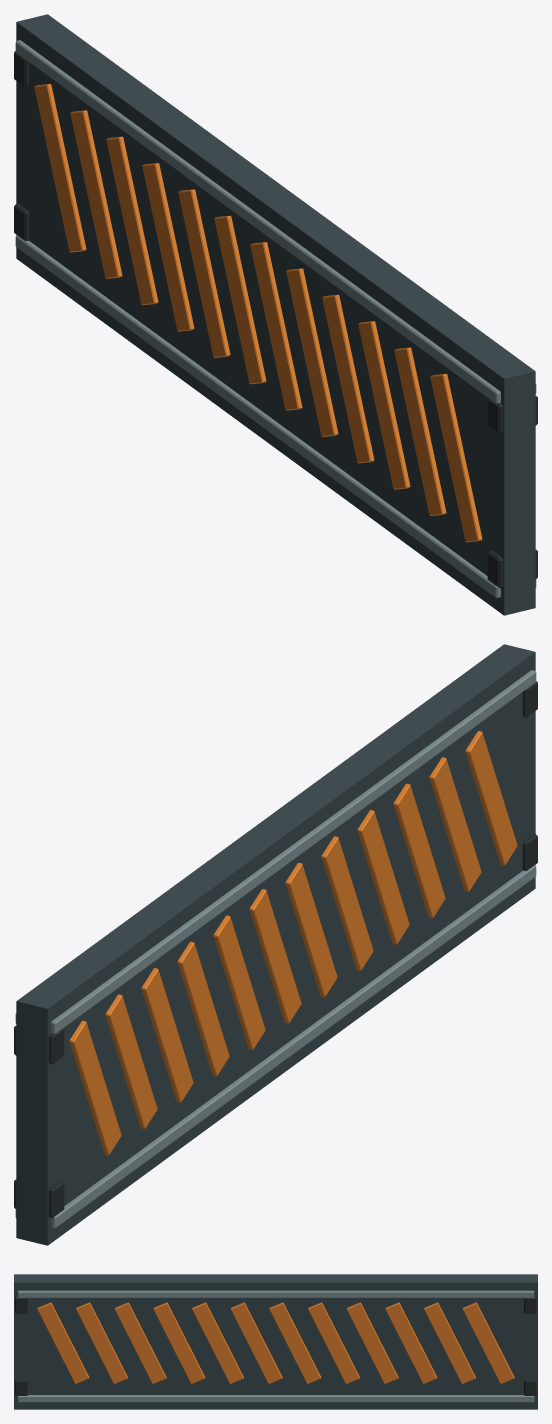
The model's file is w4b-ball-gate-bar.glb.
3 views of the same model, one above another, from view 1: azimuth 30°, elevation 25°; view 2: azimuth 150°, elevation 25°; view 3: azimuth 270°, elevation 25° (orthographic). The views are drawn at different scales.
Parts seen in each view (by area): view 1: w4b-ball-gate-bar; view 2: w4b-ball-gate-bar; view 3: w4b-ball-gate-bar.
Part boxes in pixels (left/top/right/bottom): w4b-ball-gate-bar: left=14, top=14, right=537, bottom=615; w4b-ball-gate-bar: left=14, top=644, right=537, bottom=1245; w4b-ball-gate-bar: left=14, top=1274, right=537, bottom=1409.
Bounding box in the file's own units: 0.175 × 0.98 × 3.66.
